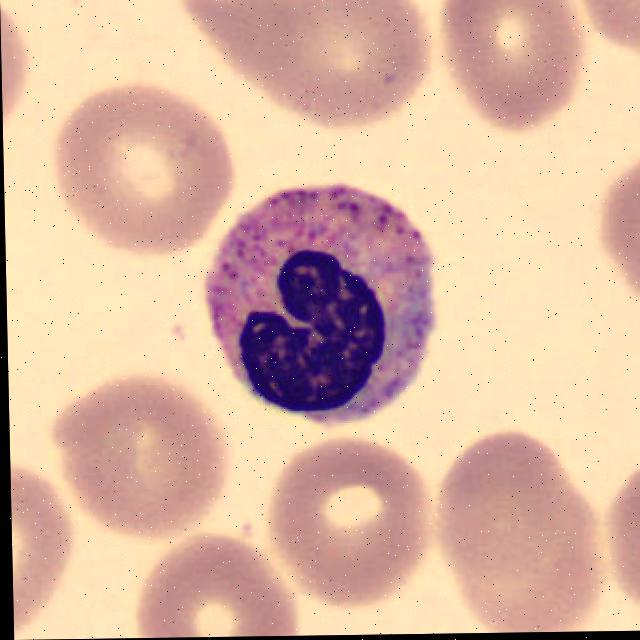neutrophil: (205, 179, 443, 428)
rbc: (192, 0, 434, 135), (50, 373, 236, 542), (266, 432, 443, 606), (62, 94, 234, 261), (435, 405, 567, 591), (461, 474, 611, 633), (429, 0, 583, 124), (145, 524, 287, 638), (10, 440, 76, 636), (589, 156, 640, 300), (612, 446, 640, 612), (0, 0, 31, 141), (574, 0, 640, 62)
